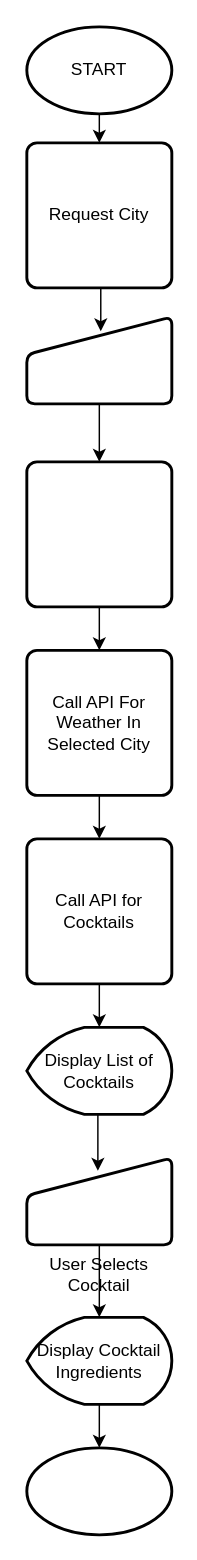
The diagram is 197 pixels wide and 1560 high, and some of its shapes have lost their labels. Here are the shapes that lost their labels. From the top down, the centre of each, then its label:
point 99,360: User Inputs City
point 99,534: Process Date/Time
point 99,1491: END
